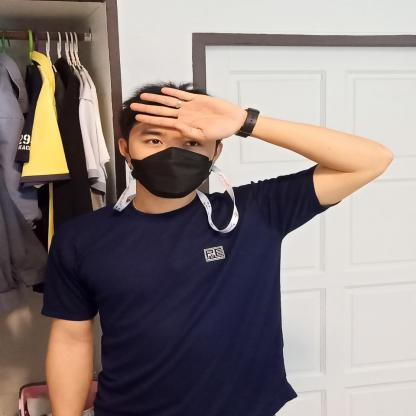Sick: (124, 78, 402, 208)
